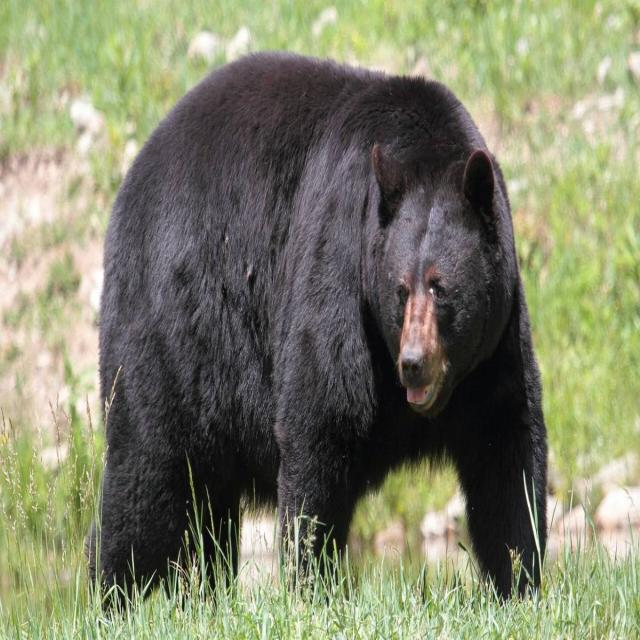Carnivorous: (88, 51, 549, 618)
